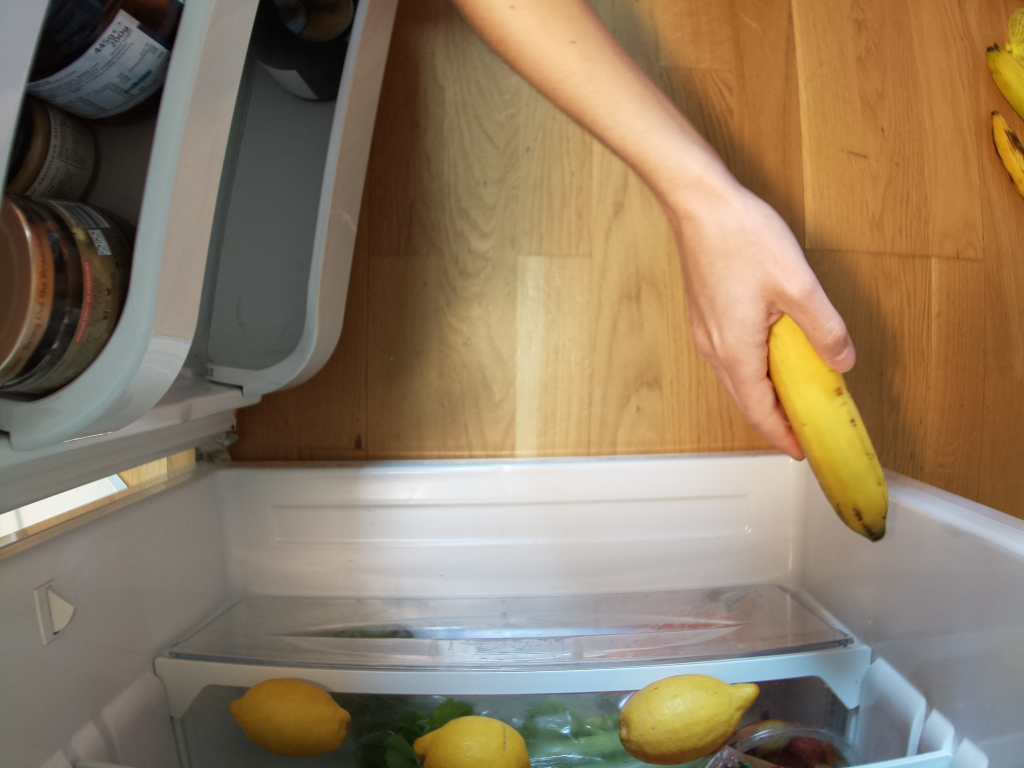banana: (763, 308, 894, 547)
